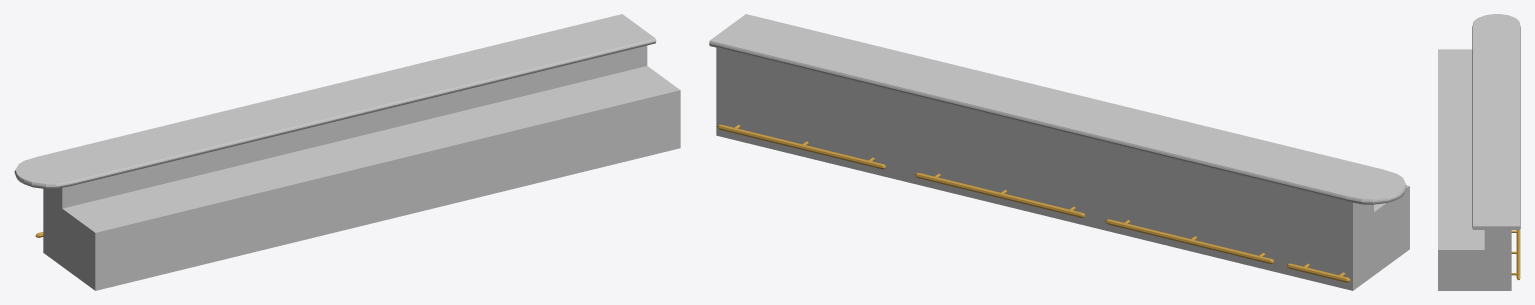
File: Cashier Desk.fbx
3 renders of one model, left to right at view 1: azimuth 30°, elevation 25°; view 2: azimuth 150°, elevation 25°; view 3: azimuth 270°, elevation 25°, orthographic. The views are drawn at different scales.
Visible parts, largest first — view 1: Cylinder.000; view 2: Cylinder.000; view 3: Cylinder.000.
Part boxes in pixels (left/top/right/bottom): Cylinder.000: left=14, top=14, right=680, bottom=290; Cylinder.000: left=709, top=14, right=1409, bottom=290; Cylinder.000: left=1438, top=14, right=1520, bottom=290.
Size of the model in its own units: 2288 by 324 by 376.
